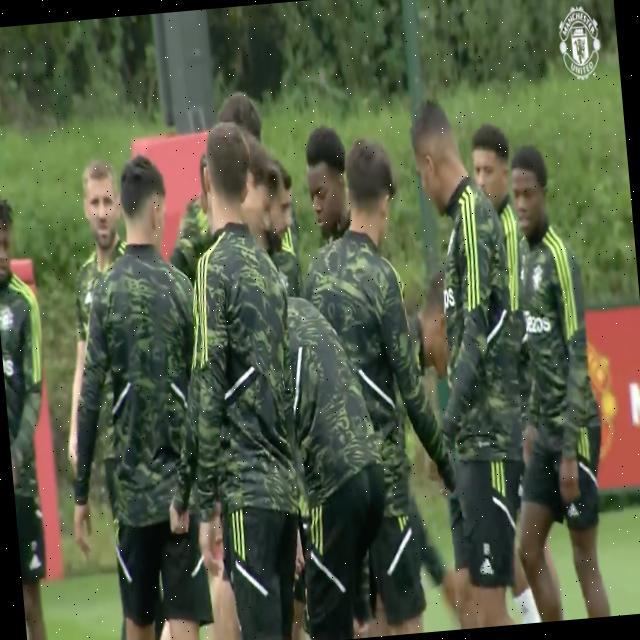Adidas: (479, 556, 495, 576), (567, 500, 582, 518)
